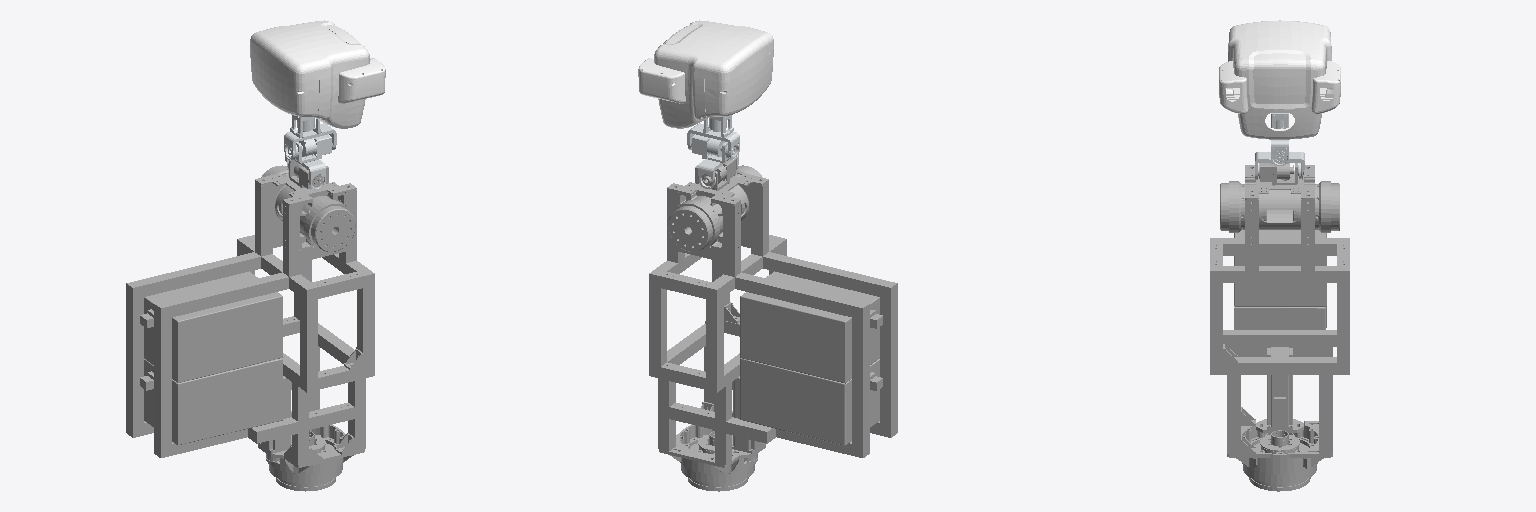
The robot description file, URDF, robot "head4":
<?xml version="1.0" encoding="utf-8"?>
<!-- This URDF was automatically created by SolidWorks to URDF Exporter! Originally created by [author] ([email redacted]) 
     Commit Version: 1.5.1-0-g916b5db  Build Version: 1.5.7152.31018
     For more information, please see http://wiki.ros.org/sw_urdf_exporter -->
<robot
  name="head4">
  <link
    name="base_link">
    <inertial>
      <origin
        xyz="-0.186110769844011 0.000245947869981268 -0.300559114524674"
        rpy="0 0 0" />
      <mass
        value="29.230369056693" />
      <inertia
        ixx="0.909006705992247"
        ixy="0.00265368667451036"
        ixz="-0.0548690070502815"
        iyy="1.34716988578229"
        iyz="-0.00127378826841597"
        izz="0.731431800891708" />
    </inertial>
    <visual>
      <origin
        xyz="0 0 0"
        rpy="0 0 0" />
      <geometry>
        <mesh
          filename="package://head4/meshes/base_link.STL" />
      </geometry>
      <material
        name="">
        <color
          rgba="0.752941176470588 0.752941176470588 0.752941176470588 1" />
      </material>
    </visual>
    <collision>
      <origin
        xyz="0 0 0"
        rpy="0 0 0" />
      <geometry>
        <mesh
          filename="package://head4/meshes/base_link.STL" />
      </geometry>
    </collision>
  </link>
  <link
    name="dt_link">
    <inertial>
      <origin
        xyz="0.0516849383495008 -0.0115560055807243 0.000141995254727825"
        rpy="0 0 0" />
      <mass
        value="0.180568084535633" />
      <inertia
        ixx="0.00022046120464693"
        ixy="2.53262012885174E-05"
        ixz="2.11077017755422E-06"
        iyy="0.000180601497897925"
        iyz="-2.74036903866306E-07"
        izz="0.000200824114886045" />
    </inertial>
    <visual>
      <origin
        xyz="0 0 0"
        rpy="0 0 0" />
      <geometry>
        <mesh
          filename="package://head4/meshes/dt_link.STL" />
      </geometry>
      <material
        name="">
        <color
          rgba="0.898039215686275 0.913725490196078 0.925490196078431 1" />
      </material>
    </visual>
    <collision>
      <origin
        xyz="0 0 0"
        rpy="0 0 0" />
      <geometry>
        <mesh
          filename="package://head4/meshes/dt_link.STL" />
      </geometry>
    </collision>
  </link>
  <joint
    name="dt_joint"
    type="revolute">
    <origin
      xyz="0 0 0.092"
      rpy="1.5708 -1.5708 0" />
    <parent
      link="base_link" />
    <child
      link="dt_link" />
    <axis
      xyz="0 0 -1" />
    <limit
      lower="-1.57"
      upper="1.57"
      effort="0"
      velocity="0" />
  </joint>
  <link
    name="pt_link">
    <inertial>
      <origin
        xyz="3.97378004429138E-05 0.0733141911165105 0.00301715107726889"
        rpy="0 0 0" />
      <mass
        value="0.187257232807549" />
      <inertia
        ixx="0.000380798598802808"
        ixy="-1.1249746034794E-07"
        ixz="-1.72721961806269E-08"
        iyy="0.000143202097066812"
        iyz="3.00875139093559E-05"
        izz="0.00029193641072338" />
    </inertial>
    <visual>
      <origin
        xyz="0 0 0"
        rpy="0 0 0" />
      <geometry>
        <mesh
          filename="package://head4/meshes/pt_link.STL" />
      </geometry>
      <material
        name="">
        <color
          rgba="0.898039215686275 0.913725490196078 0.925490196078431 1" />
      </material>
    </visual>
    <collision>
      <origin
        xyz="0 0 0"
        rpy="0 0 0" />
      <geometry>
        <mesh
          filename="package://head4/meshes/pt_link.STL" />
      </geometry>
    </collision>
  </link>
  <joint
    name="pt_joint"
    type="revolute">
    <origin
      xyz="0.064 0 0"
      rpy="1.5708 1.5708 0" />
    <parent
      link="dt_link" />
    <child
      link="pt_link" />
    <axis
      xyz="0 0 -1" />
    <limit
      lower="-1.57"
      upper="1.57"
      effort="0"
      velocity="0" />
  </joint>
  <link
    name="yt_link">
    <inertial>
      <origin
        xyz="0.0405802046278408 8.11345843966172E-05 -0.0431283416137569"
        rpy="0 0 0" />
      <mass
        value="0.991335636374897" />
      <inertia
        ixx="0.00984269640144693"
        ixy="4.51352378221221E-06"
        ixz="-0.000503542763797524"
        iyy="0.00695114192221842"
        iyz="-9.4441744532797E-06"
        izz="0.0114215688919503" />
    </inertial>
    <visual>
      <origin
        xyz="0 0 0"
        rpy="0 0 0" />
      <geometry>
        <mesh
          filename="package://head4/meshes/yt_link.STL" />
      </geometry>
      <material
        name="">
        <color
          rgba="1 1 1 1" />
      </material>
    </visual>
    <collision>
      <origin
        xyz="0 0 0"
        rpy="0 0 0" />
      <geometry>
        <mesh
          filename="package://head4/meshes/yt_link.STL" />
      </geometry>
    </collision>
  </link>
  <joint
    name="yt_joint"
    type="revolute">
    <origin
      xyz="0 0.147 0"
      rpy="1.5708 -1.5708 0" />
    <parent
      link="pt_link" />
    <child
      link="yt_link" />
    <axis
      xyz="0 0 -1" />
    <limit
      lower="-1.57"
      upper="1.57"
      effort="0"
      velocity="0" />
  </joint>
</robot>

--- Facts derived from the render (not from the file) ---
The picture shows the robot from 3 angles, left to right: view 1: azimuth 30°, elevation 25°; view 2: azimuth 150°, elevation 25°; view 3: azimuth 270°, elevation 25°; orthographic projection.
Robot: head4 — 4 links, 3 joints (3 revolute); root link base_link; default pose: every joint at zero.
Visible links, largest first — view 1: base_link, yt_link, dt_link, pt_link; view 2: base_link, yt_link, dt_link, pt_link; view 3: base_link, yt_link, pt_link, dt_link.
Link boxes in pixels (<box>): base_link: <box>126,160,374,491</box>; yt_link: <box>250,20,385,128</box>; dt_link: <box>284,134,332,189</box>; pt_link: <box>284,115,336,159</box>; base_link: <box>649,160,897,491</box>; yt_link: <box>638,20,773,128</box>; dt_link: <box>691,134,739,188</box>; pt_link: <box>687,115,739,159</box>; base_link: <box>1210,163,1349,491</box>; yt_link: <box>1219,20,1340,139</box>; pt_link: <box>1271,111,1288,165</box>; dt_link: <box>1255,151,1304,179</box>.
Bounding box of the posed robot: 0.5696 × 0.32 × 1.14 m (x, y, z).
4 mesh visuals loaded from 4 distinct referenced files (4 binary STL).